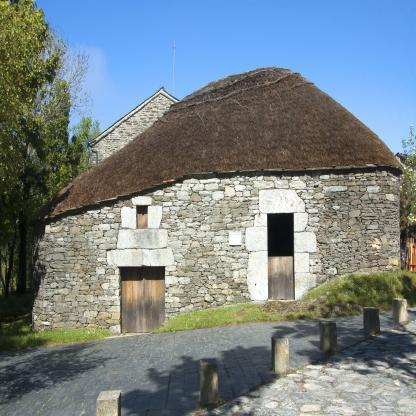Building Outline: (28, 66, 403, 336)
Door: (121, 267, 165, 332), (268, 214, 294, 300)
Facade: (61, 190, 400, 302)
Ground Floor: (36, 170, 399, 334)
Roof: (28, 66, 402, 223)
Window: (138, 206, 148, 229)
Window Hole: (136, 204, 148, 229)
